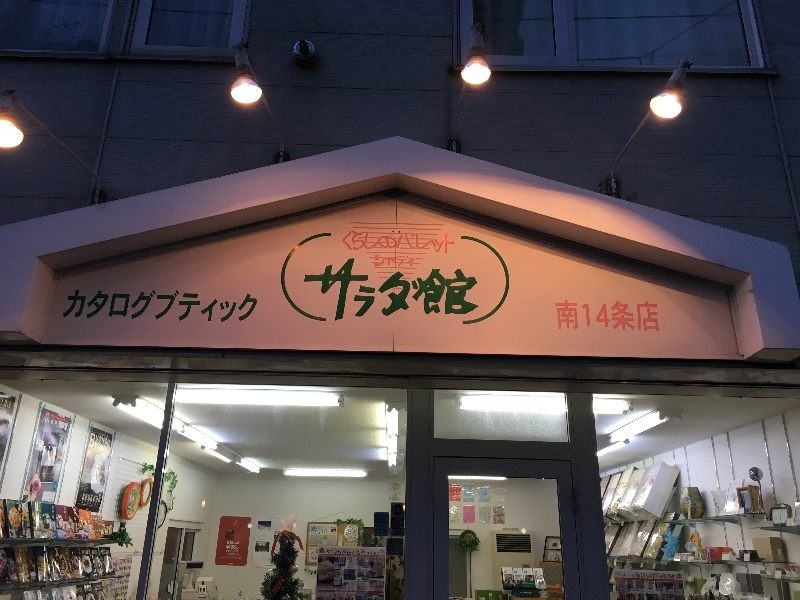text: (305, 258, 320, 323), (321, 258, 336, 323), (337, 258, 352, 323), (353, 258, 368, 323), (369, 258, 384, 323), (385, 258, 400, 323), (401, 258, 416, 323), (417, 258, 432, 323), (433, 258, 448, 323), (449, 258, 464, 323), (465, 258, 479, 323), (81, 286, 96, 324), (97, 286, 112, 324), (113, 286, 128, 324), (129, 286, 144, 324), (145, 286, 160, 324), (161, 286, 176, 324), (177, 286, 192, 324), (193, 286, 208, 324), (209, 286, 224, 324), (225, 286, 240, 324), (241, 286, 256, 324), (561, 300, 576, 332), (577, 300, 592, 332), (593, 300, 608, 332), (609, 300, 624, 332), (625, 300, 640, 332), (641, 300, 656, 332), (69, 286, 80, 324), (353, 230, 368, 254), (369, 230, 384, 254), (385, 230, 400, 254), (401, 230, 416, 254), (417, 230, 432, 254), (433, 230, 448, 254), (84, 472, 96, 492), (344, 230, 352, 254), (385, 255, 400, 267), (401, 255, 416, 267), (49, 412, 64, 424), (52, 506, 64, 520), (66, 549, 80, 561), (97, 435, 112, 446), (555, 300, 560, 332), (257, 553, 272, 563), (449, 230, 455, 254), (257, 532, 272, 541), (625, 571, 640, 580), (641, 571, 656, 580), (657, 571, 672, 580), (273, 523, 289, 531), (39, 505, 48, 519), (374, 255, 384, 267), (51, 419, 64, 428), (97, 431, 111, 439), (97, 442, 107, 453), (87, 512, 96, 524), (226, 544, 240, 551), (657, 300, 660, 332), (337, 550, 352, 556), (353, 550, 368, 556), (615, 571, 624, 580), (673, 571, 682, 580), (91, 433, 96, 449), (83, 493, 96, 499), (74, 508, 80, 521), (84, 587, 96, 593), (227, 540, 240, 545), (326, 550, 336, 556), (369, 550, 379, 556), (87, 586, 96, 592), (56, 429, 64, 435), (56, 433, 64, 439), (388, 540, 400, 544), (225, 553, 240, 556), (97, 587, 112, 590), (101, 550, 112, 554), (226, 550, 240, 553), (83, 552, 96, 555), (257, 286, 258, 324), (65, 412, 68, 424), (394, 507, 400, 513), (45, 416, 48, 425), (65, 507, 67, 520), (83, 550, 96, 552), (93, 431, 96, 439), (46, 412, 48, 424), (61, 423, 64, 431), (65, 423, 68, 431), (97, 493, 101, 499), (8, 501, 16, 504), (76, 588, 80, 594), (254, 553, 256, 563), (92, 550, 96, 555), (273, 532, 275, 541), (103, 550, 112, 552), (394, 530, 400, 533), (104, 552, 112, 554), (11, 501, 16, 504), (273, 518, 280, 520), (65, 433, 67, 439), (97, 585, 101, 588), (81, 588, 83, 594), (95, 442, 96, 453), (267, 518, 272, 520), (97, 550, 99, 555), (49, 416, 50, 425), (271, 523, 272, 531), (17, 502, 19, 505), (401, 507, 402, 513), (95, 586, 96, 591), (97, 586, 98, 591), (401, 530, 402, 533)
